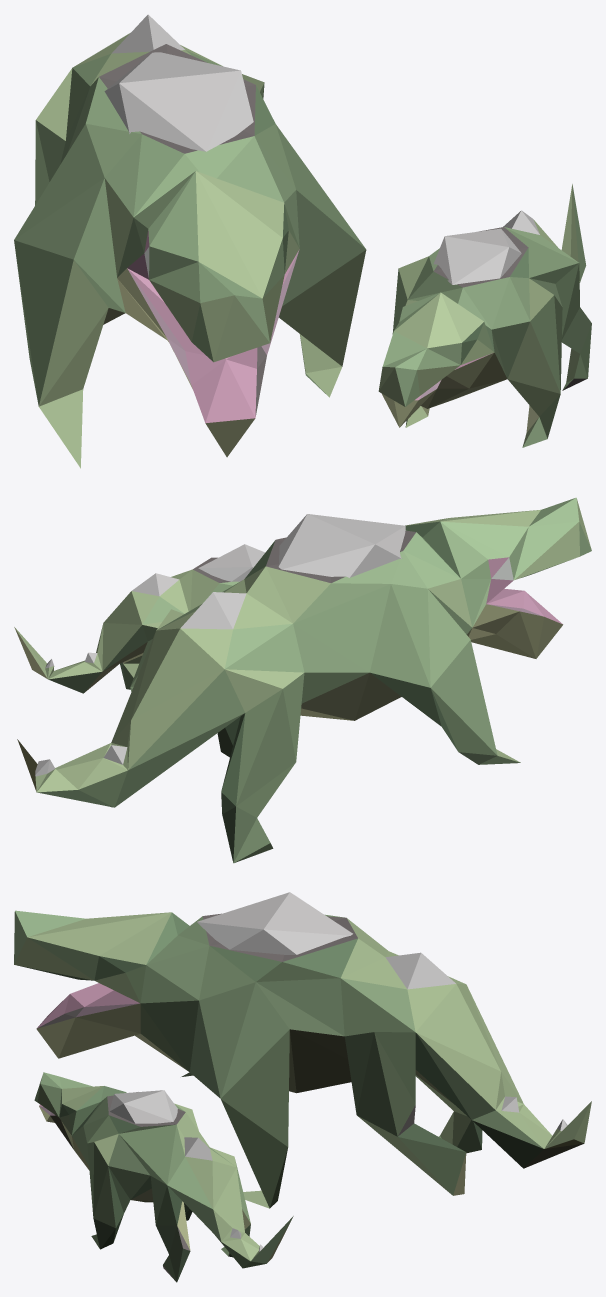
File: Muttadiles.gltf
3 renders of one model, top to bottom at view 1: azimuth 30°, elevation 25°; view 2: azimuth 150°, elevation 25°; view 3: azimuth 270°, elevation 25°, orthographic. The views are drawn at different scales.
Visible parts, largest first — view 1: Mommadile, Muttadile; view 2: Mommadile, Muttadile; view 3: Mommadile, Muttadile.
Part boxes in pixels (box(x1,y1,x2,y2)): Mommadile: box(14, 14, 366, 468); Muttadile: box(378, 184, 591, 447); Mommadile: box(17, 497, 591, 863); Muttadile: box(14, 544, 265, 693); Mommadile: box(14, 892, 591, 1208); Muttadile: box(34, 1072, 293, 1282).
Size of the model in its own units: 1.44 by 0.8044 by 1.69.
